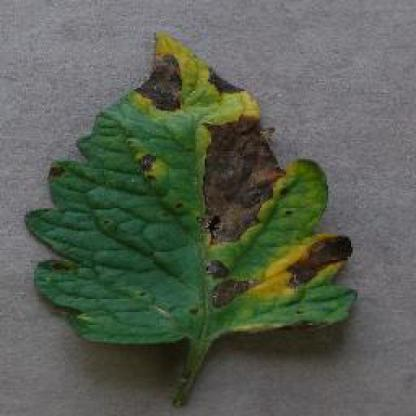Tomato_Blight: (24, 30, 358, 347)
